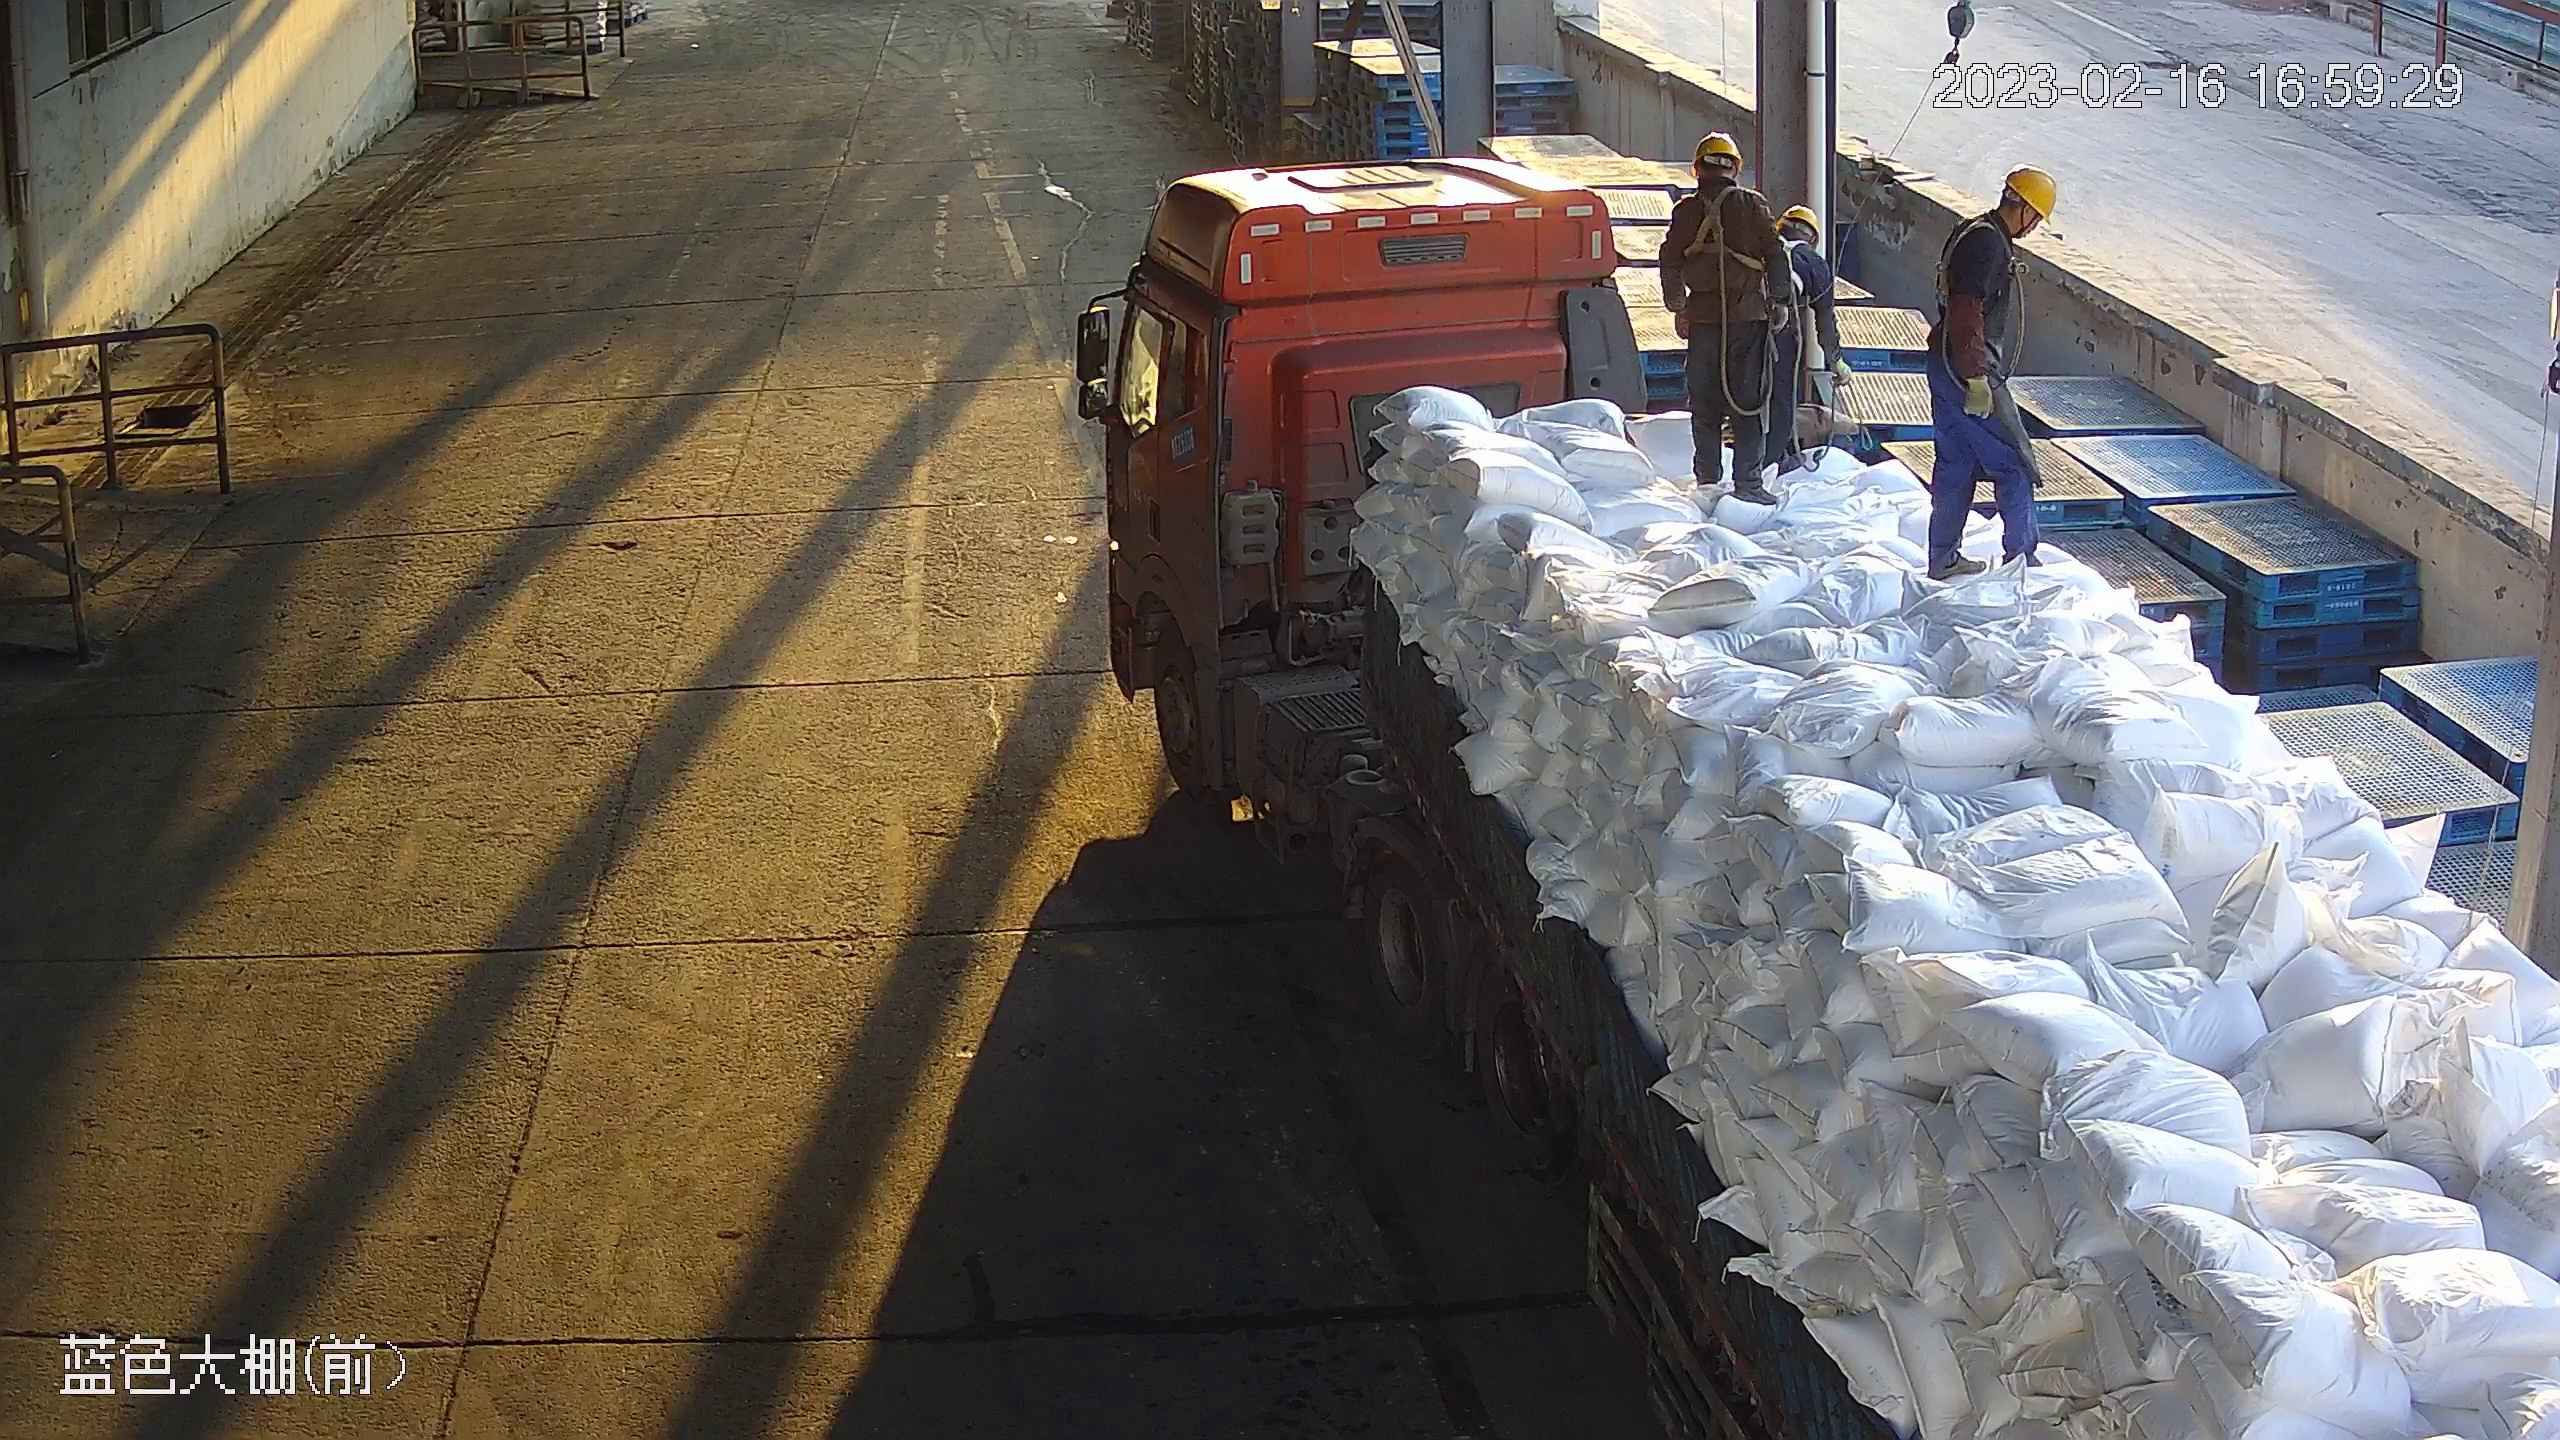belt: (1927, 225, 2011, 306), (1688, 186, 1758, 267), (1765, 236, 1821, 302)
head: (1967, 165, 2058, 260), (1672, 136, 1756, 222), (1774, 201, 1834, 267)
helmet: (2009, 165, 2053, 227), (1777, 201, 1818, 241), (1695, 136, 1739, 167)
people: (1923, 162, 2063, 585), (1646, 136, 1777, 508), (1770, 201, 1853, 478)
truck: (1067, 148, 2560, 1440)
